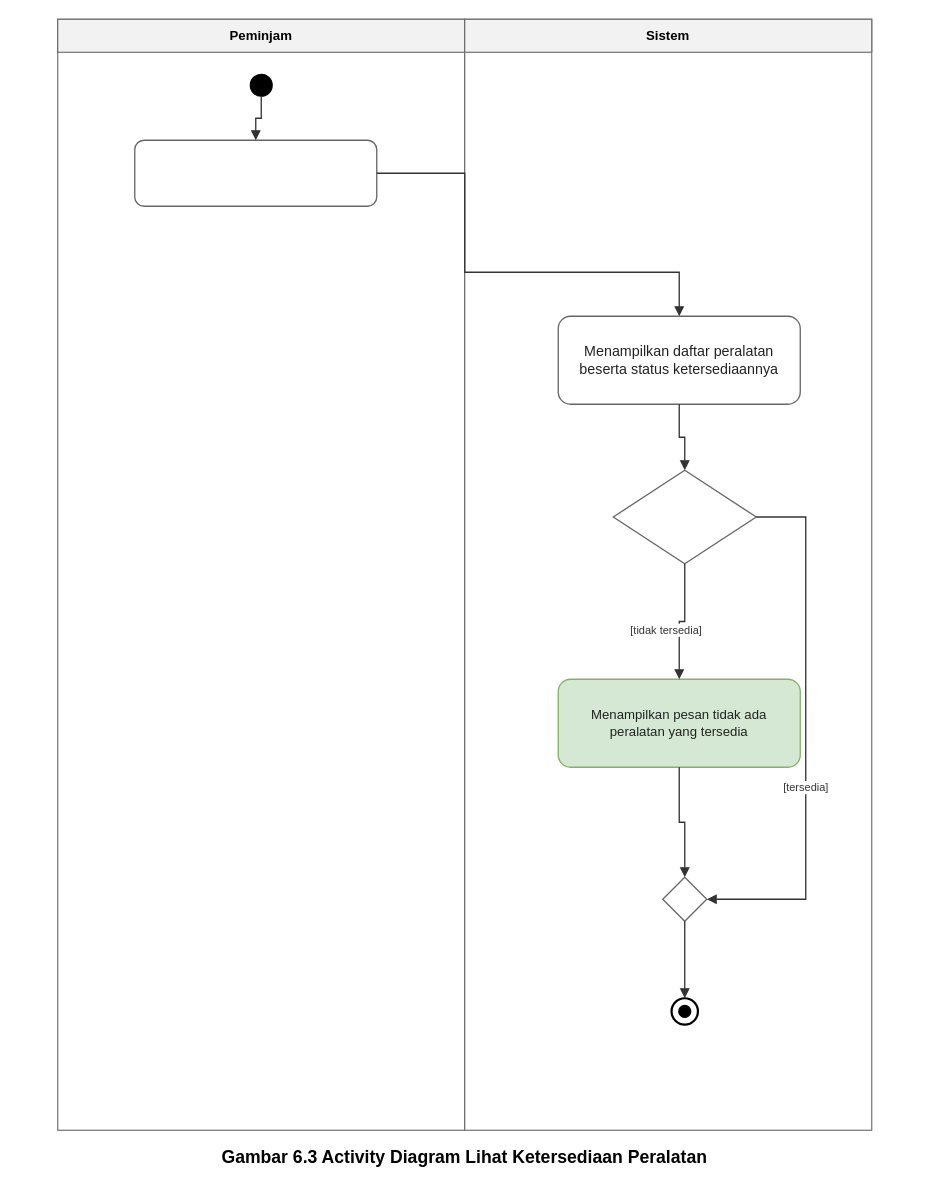
Image size: 928x1191. Some labels were removed from this diagram. The shapes that lost their labels are listed below. From the top down, each one's box as (x1, y1, x2, y2) in pixels, then its label:
(134, 139, 377, 206): Membuka fungsi Lihat Ketersediaan Peralatan
(612, 469, 756, 564): Peralatan tersedia?
